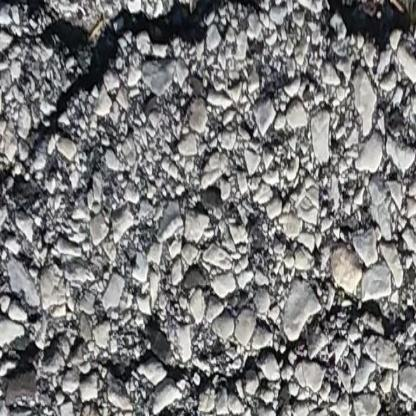Cracks: (0, 0, 269, 217), (76, 297, 416, 416), (277, 0, 416, 67)
